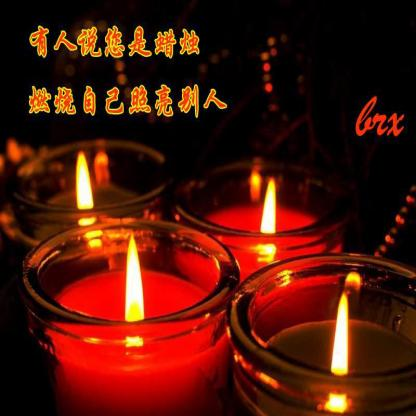fire: (113, 234, 149, 340), (329, 288, 358, 396), (70, 147, 99, 228), (260, 179, 280, 262)
